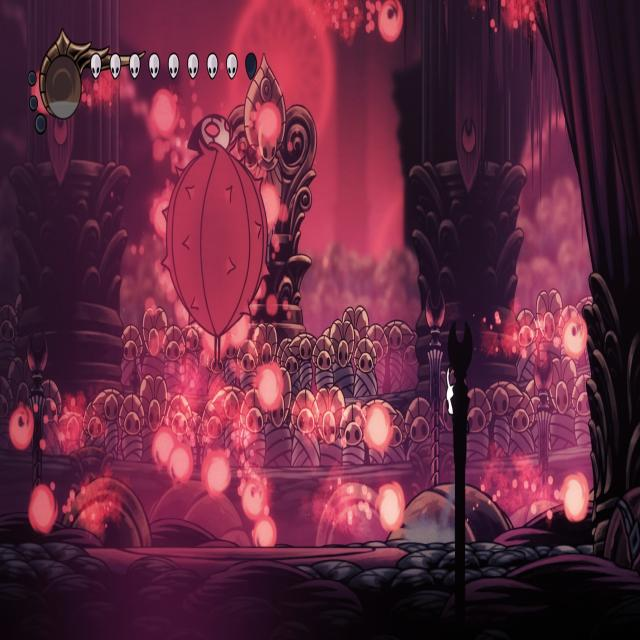Player: (442, 364, 474, 444)
Pufferfish: (157, 109, 274, 377)
Tiny Fireballs: (160, 428, 194, 483), (147, 89, 178, 140), (256, 362, 284, 414), (28, 486, 56, 536), (364, 403, 391, 451), (378, 484, 405, 532), (202, 450, 230, 496), (258, 102, 284, 148), (154, 428, 178, 477), (562, 474, 587, 521), (10, 405, 36, 449), (562, 317, 587, 360), (378, 0, 403, 41), (242, 478, 266, 520), (170, 444, 192, 482), (255, 516, 278, 548)
